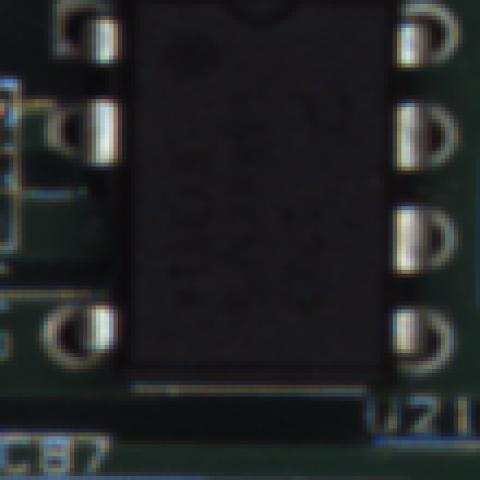IC: (57, 10, 431, 412)
